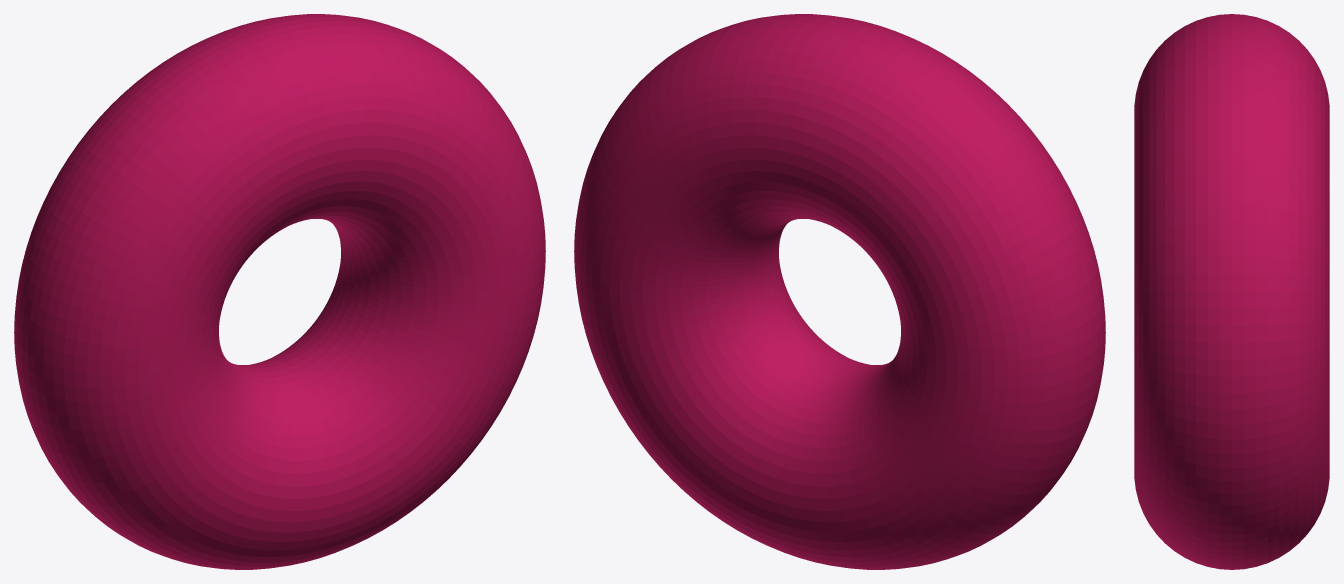
The picture shows the model from 3 angles, left to right: view 1: azimuth 30°, elevation 25°; view 2: azimuth 150°, elevation 25°; view 3: azimuth 270°, elevation 25°; orthographic projection. The views are drawn at different scales.
Visible parts, largest first — view 1: world; view 2: world; view 3: world.
Part boxes in pixels (x1,y1,x2,y2): world: (14,14,545,569); world: (574,14,1105,569); world: (1134,14,1329,569).
Size of the model in its own units: 21.6 by 21.6 by 7.59.
